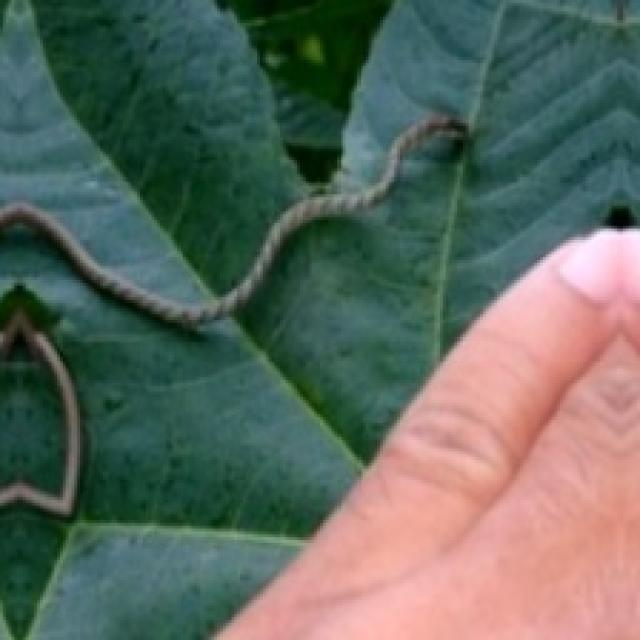philippine whip snake: (0, 114, 466, 329), (0, 114, 463, 329), (0, 114, 466, 326)
